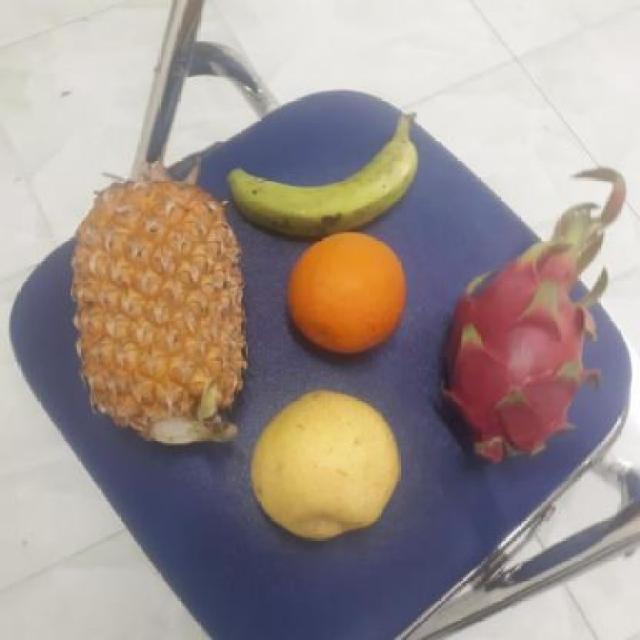banana: (221, 98, 421, 242)
dragon fruit: (428, 248, 595, 463)
oren: (282, 229, 413, 354)
pear: (241, 392, 397, 540)
pineapple: (68, 178, 244, 450)
